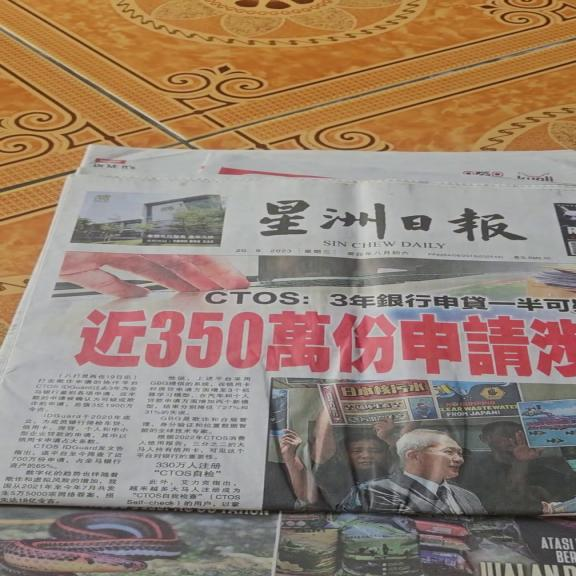Kertas: (85, 147, 569, 504)
